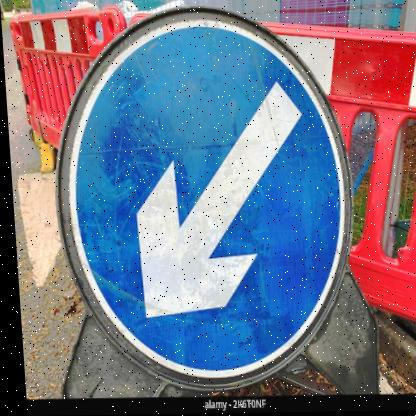Keep left: (51, 2, 359, 388)
